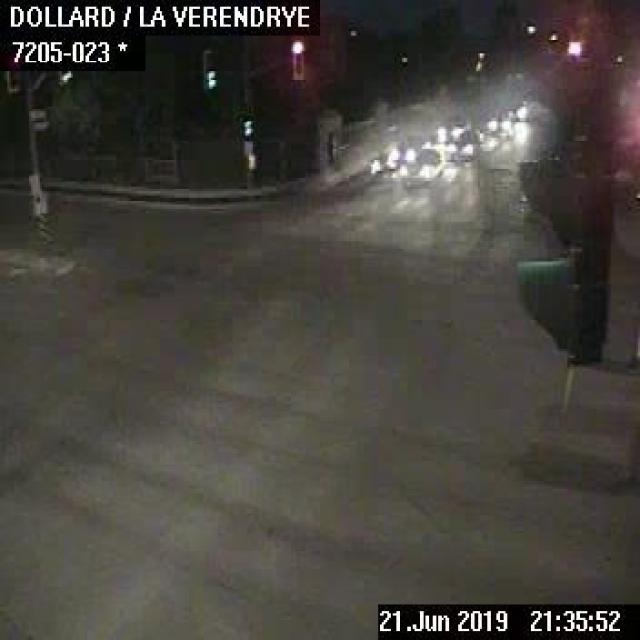vehicle: (395, 144, 440, 190), (443, 132, 480, 162), (433, 115, 470, 142), (366, 149, 403, 174), (484, 108, 514, 134), (507, 102, 531, 122)
